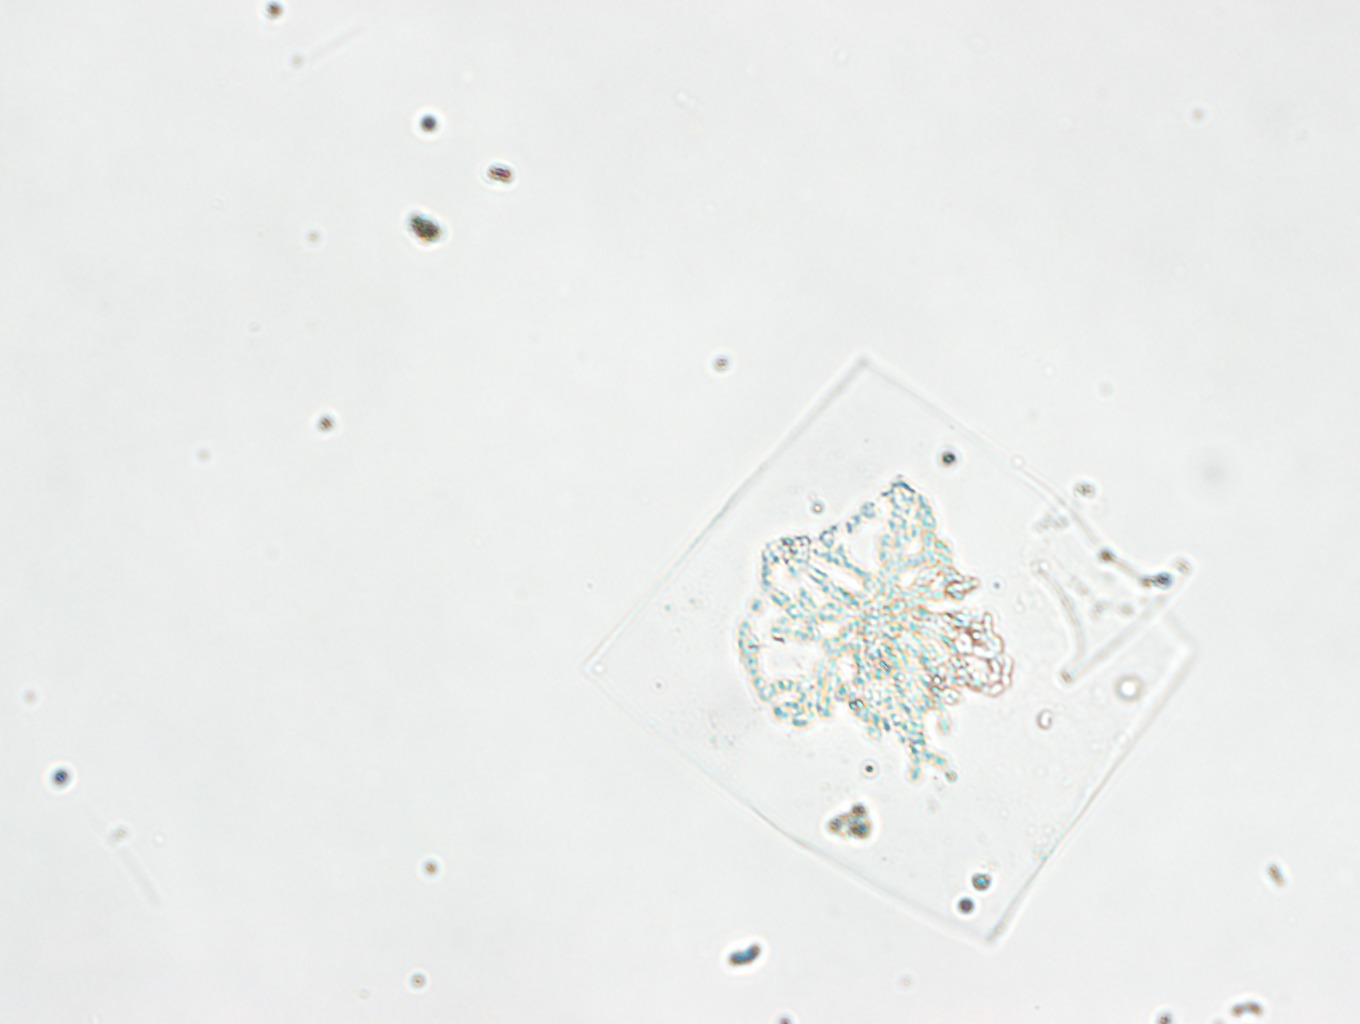helicotheca: (570, 345, 1200, 959)
